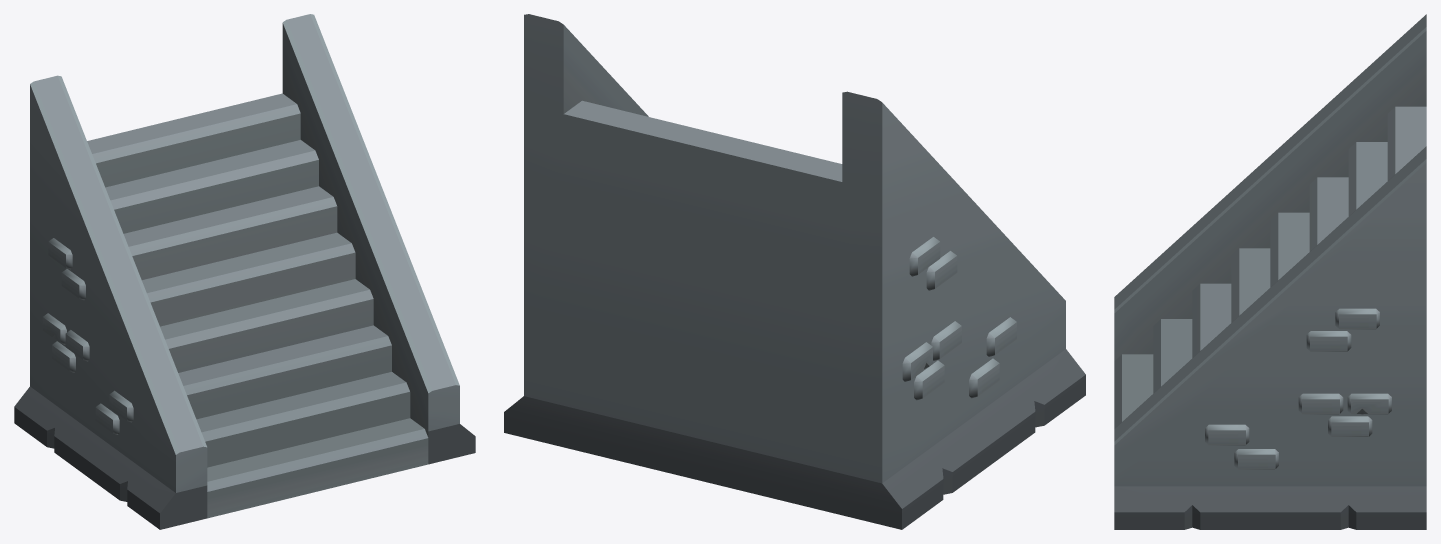
Rendered from stairs_gltf.glb.
The picture shows the model from 3 angles, left to right: view 1: azimuth 30°, elevation 25°; view 2: azimuth 150°, elevation 25°; view 3: azimuth 270°, elevation 25°; orthographic projection. The views are drawn at different scales.
Parts seen in each view (by area): view 1: stairs; view 2: stairs; view 3: stairs.
Boxes of the visible parts, <box> form: stairs: <box>14,14,475,529</box>; stairs: <box>504,14,1085,529</box>; stairs: <box>1114,14,1426,529</box>.
Bounding box in the file's own units: 5 × 5.1 × 4.
1 material, 1 textured.
